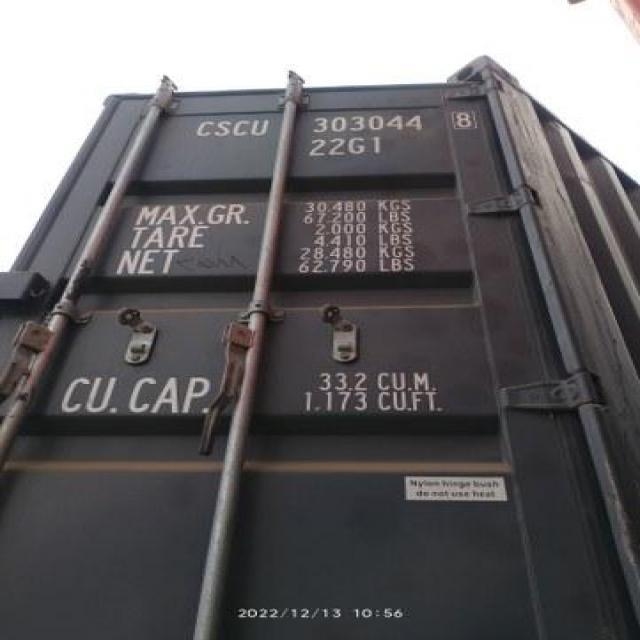container_number_h: (178, 95, 513, 174)
